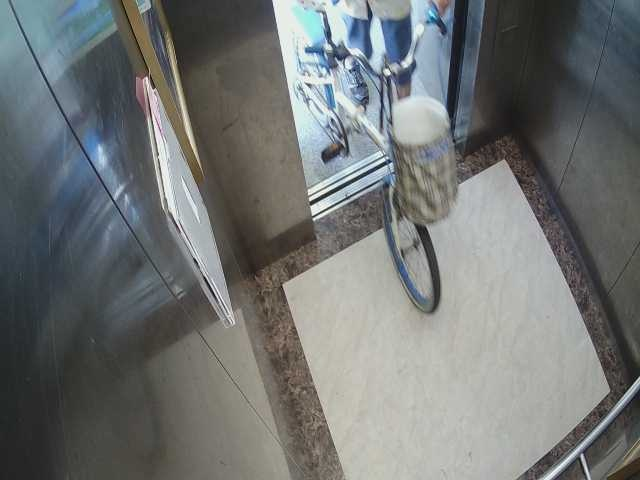bicycle: (280, 7, 448, 316)
